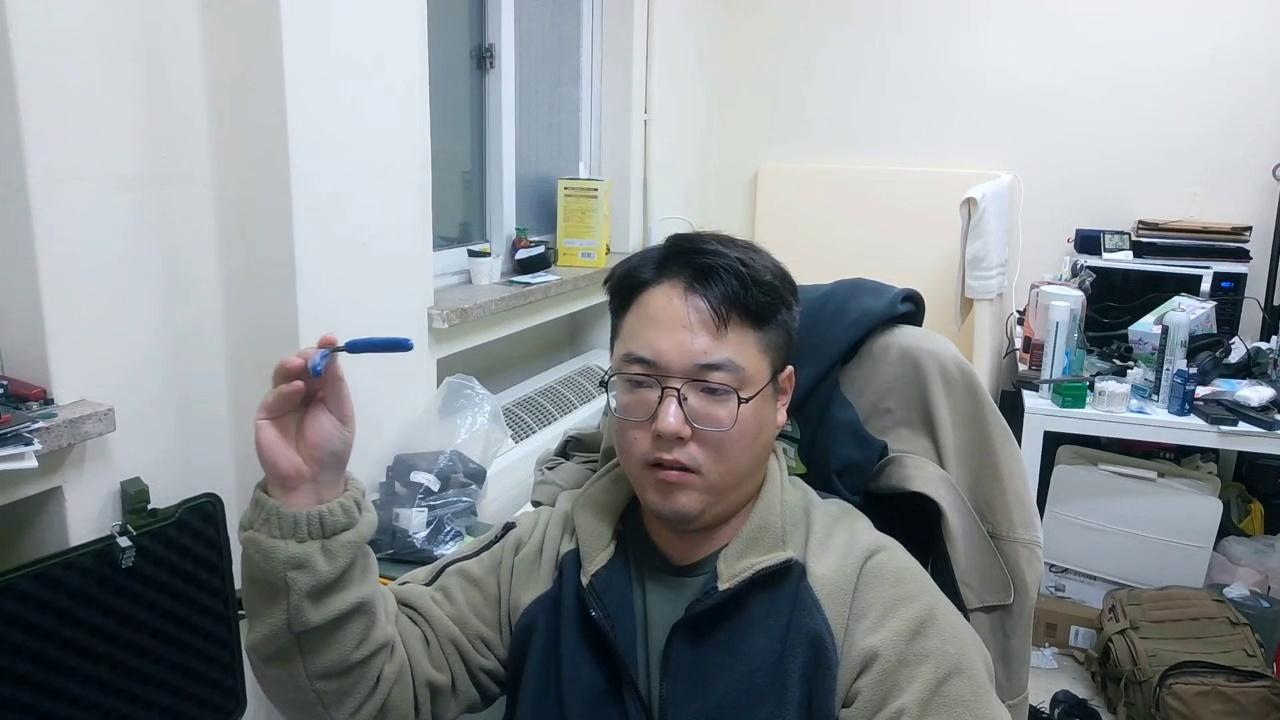blue_pliers: (305, 334, 415, 378)
